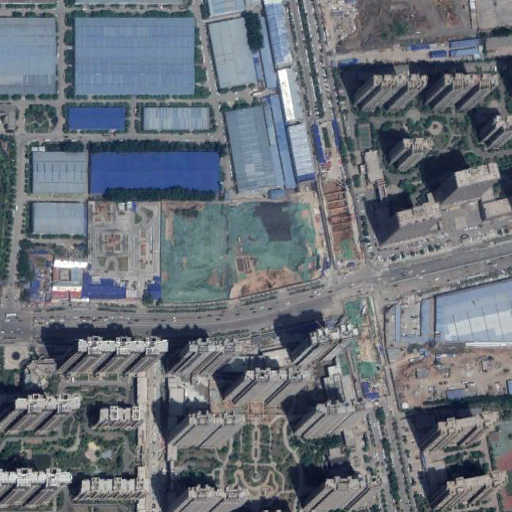cw: (159, 201, 316, 303), (339, 296, 382, 377)
